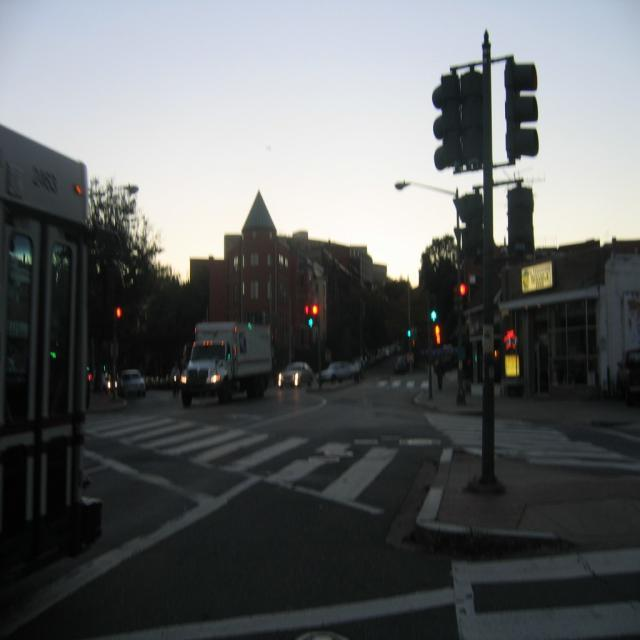off traffic light: (503, 55, 544, 162), (433, 72, 461, 172)
